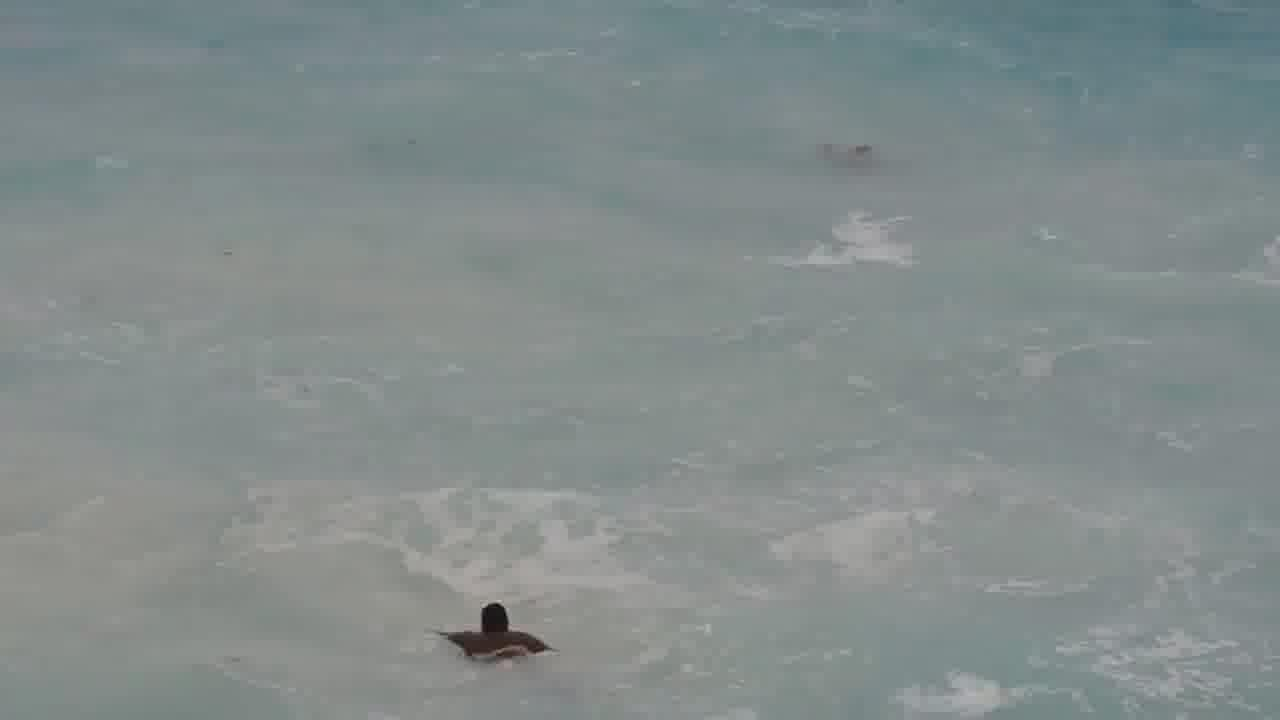human: (423, 592, 559, 667)
